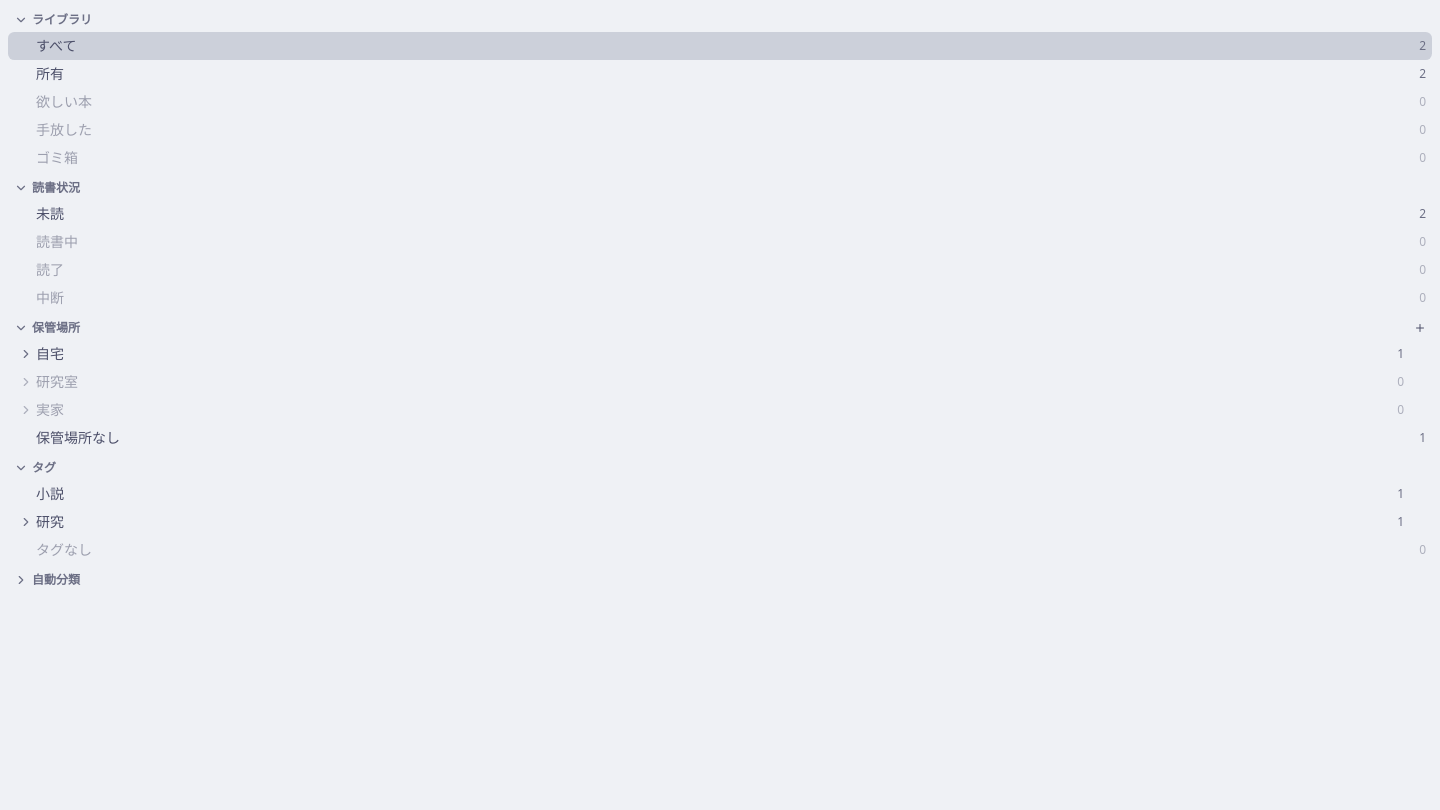
サイドバーの管理（保管場所・タグ） › 保管場所 › 右クリックでも、同じメニューが開く
This screenshot has width=1440, height=810.
Click the 1st button named "開く" at (26, 354), box [16,344,36,364]
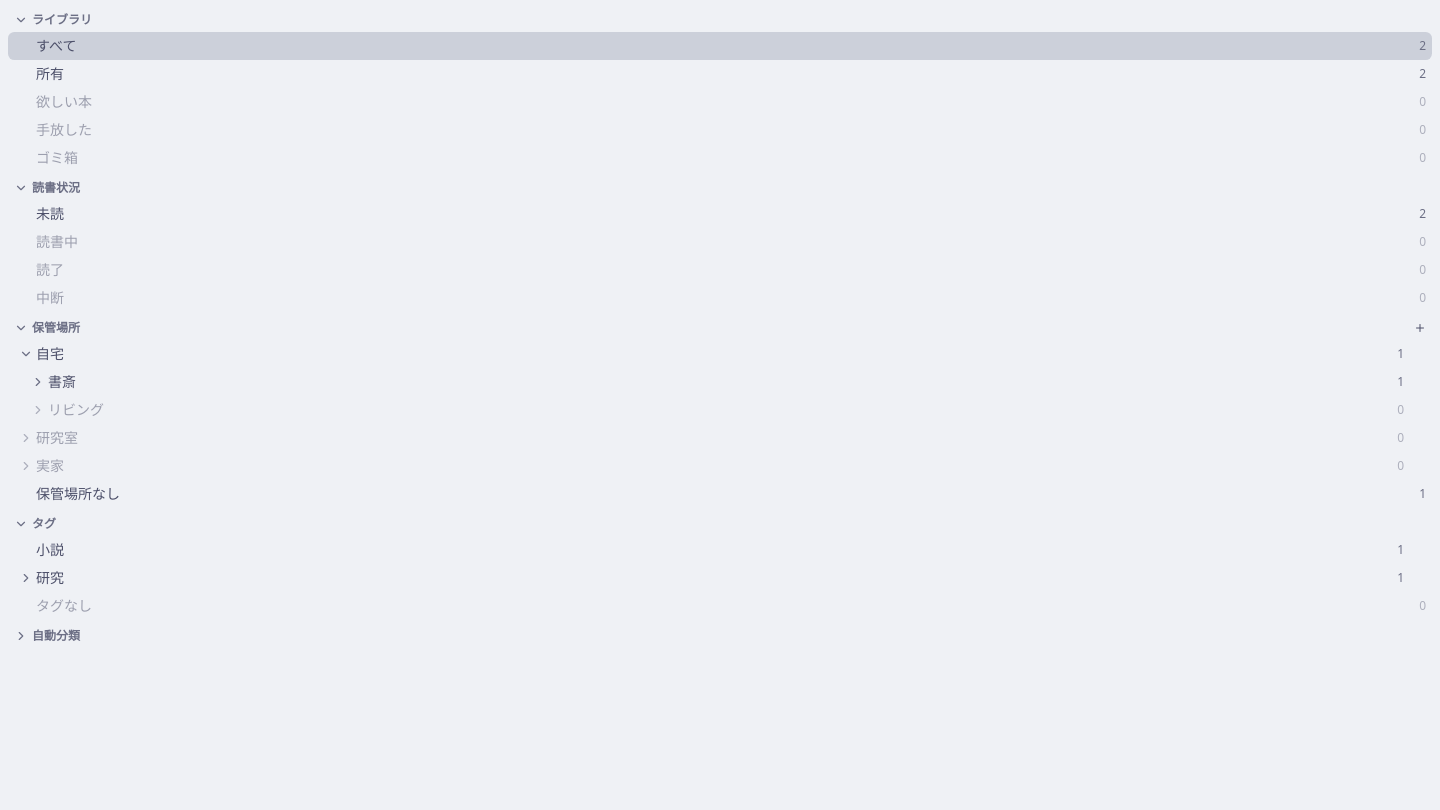
Right-click the element showing "書斎 1" at (720, 382), box [8,368,1432,396]
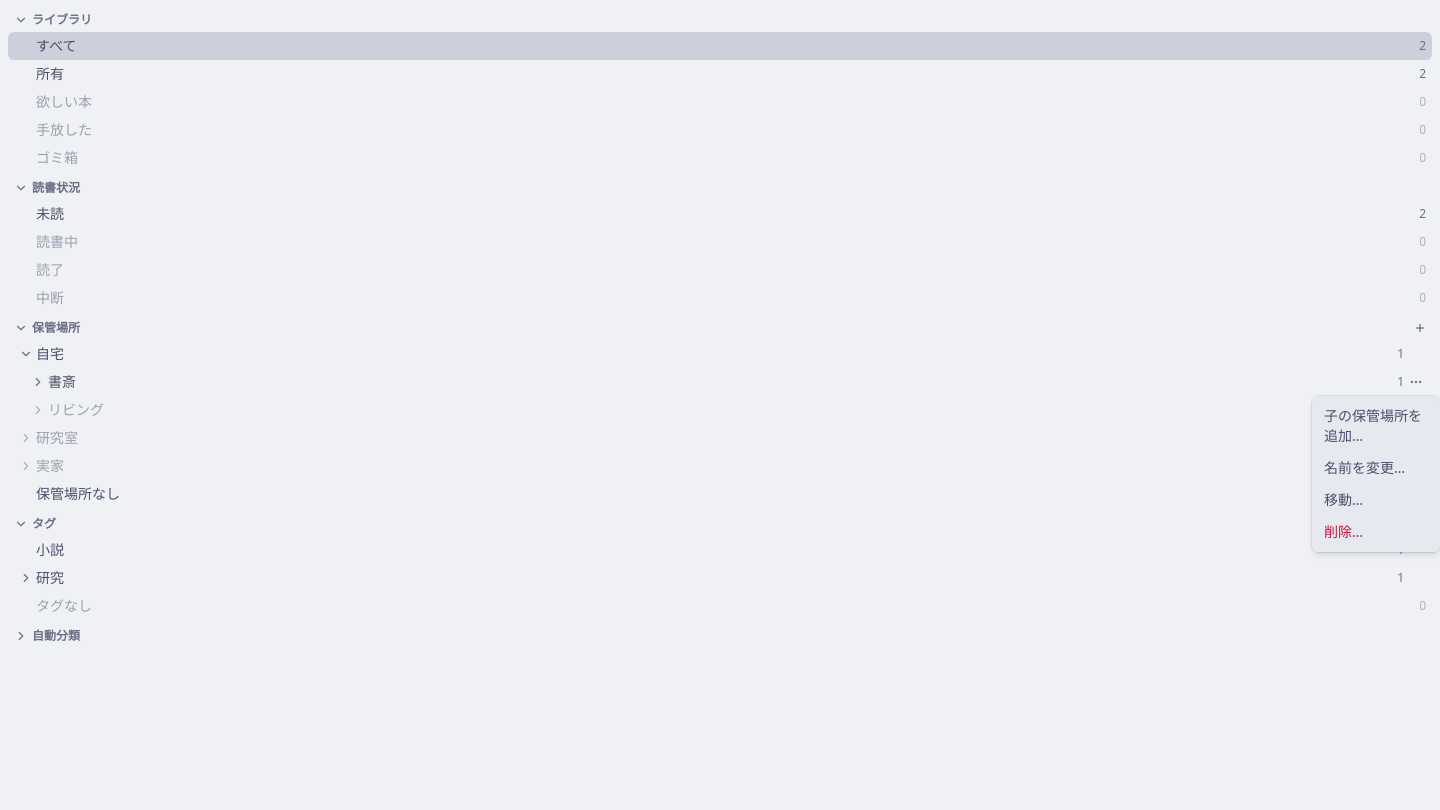
Expected: the menu item "移動…" is shown, [1324,490,1363,509]
